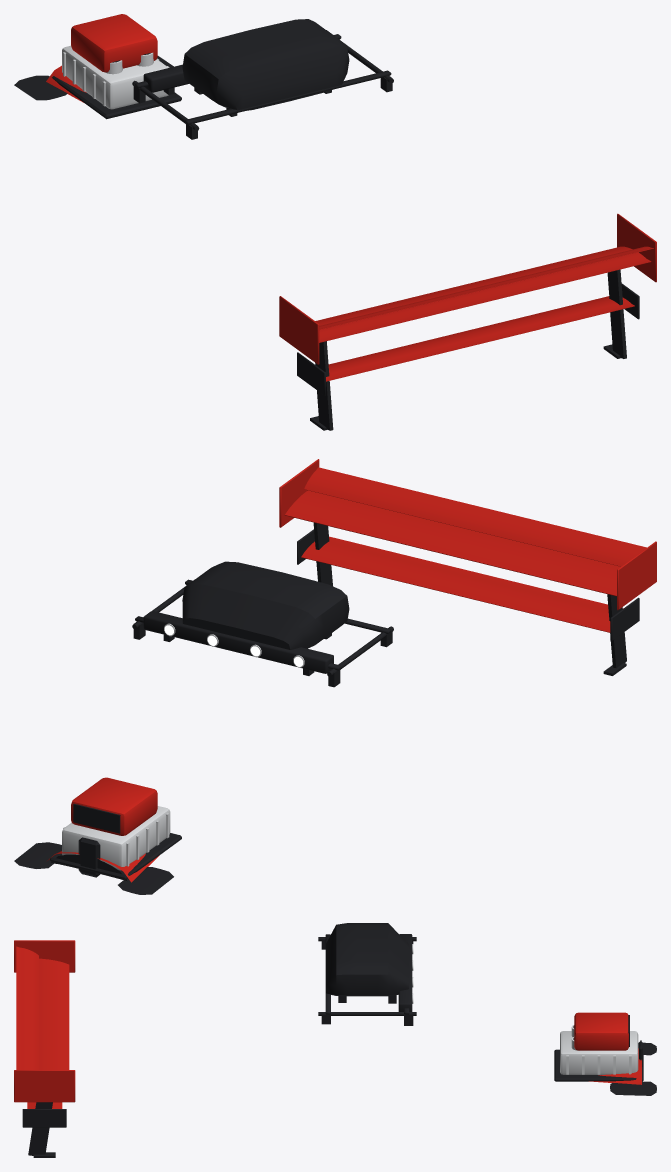
File: pickup_kit.glb
3 renders of one model, top to bottom at view 1: azimuth 30°, elevation 25°; view 2: azimuth 150°, elevation 25°; view 3: azimuth 270°, elevation 25°, orthographic. The views are drawn at different scales.
Visible parts, largest first — view 1: spoiler_mega, roof_box, bonnet_blower, spoiler_wing, roof_rack, bonnet_vents, roof_lights; view 2: spoiler_mega, roof_box, spoiler_wing, bonnet_blower, roof_lights, bonnet_vents, roof_rack, bonnet_scoop; view 3: spoiler_mega, roof_box, bonnet_blower, spoiler_wing, roof_rack, bonnet_vents, roof_lights, bonnet_scoop.
Boxes of the visible parts, x1,y1,x2,y2 form: spoiler_mega: (279, 213, 656, 430); roof_box: (182, 19, 349, 116); bonnet_blower: (52, 14, 181, 119); spoiler_wing: (297, 283, 639, 427); roof_rack: (132, 34, 393, 139); bonnet_vents: (14, 56, 173, 100); roof_lights: (143, 30, 333, 94); spoiler_mega: (279, 459, 656, 675); roof_box: (182, 561, 349, 649); spoiler_wing: (297, 529, 639, 667); bonnet_blower: (50, 777, 181, 879); roof_lights: (143, 611, 333, 675); bonnet_vents: (14, 842, 173, 894); roof_rack: (132, 579, 393, 687); bonnet_scoop: (46, 851, 159, 882); spoiler_mega: (14, 940, 75, 1157); roof_box: (325, 923, 408, 1003); bonnet_blower: (554, 1012, 643, 1081); spoiler_wing: (22, 1102, 66, 1155); roof_rack: (318, 934, 416, 1025); bonnet_vents: (610, 1042, 656, 1095); roof_lights: (398, 934, 413, 1011); bonnet_scoop: (589, 1048, 641, 1084).
Size of the model in its own units: 2.26 by 1.27 by 4.72.
